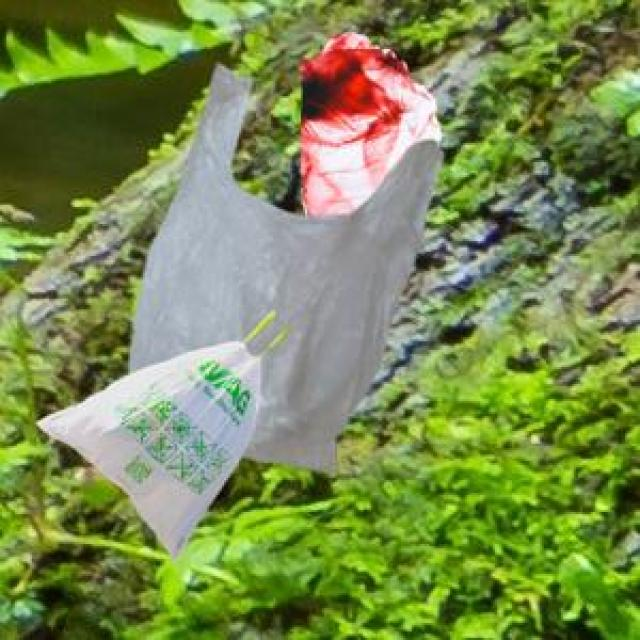plastic: (81, 46, 544, 548)
